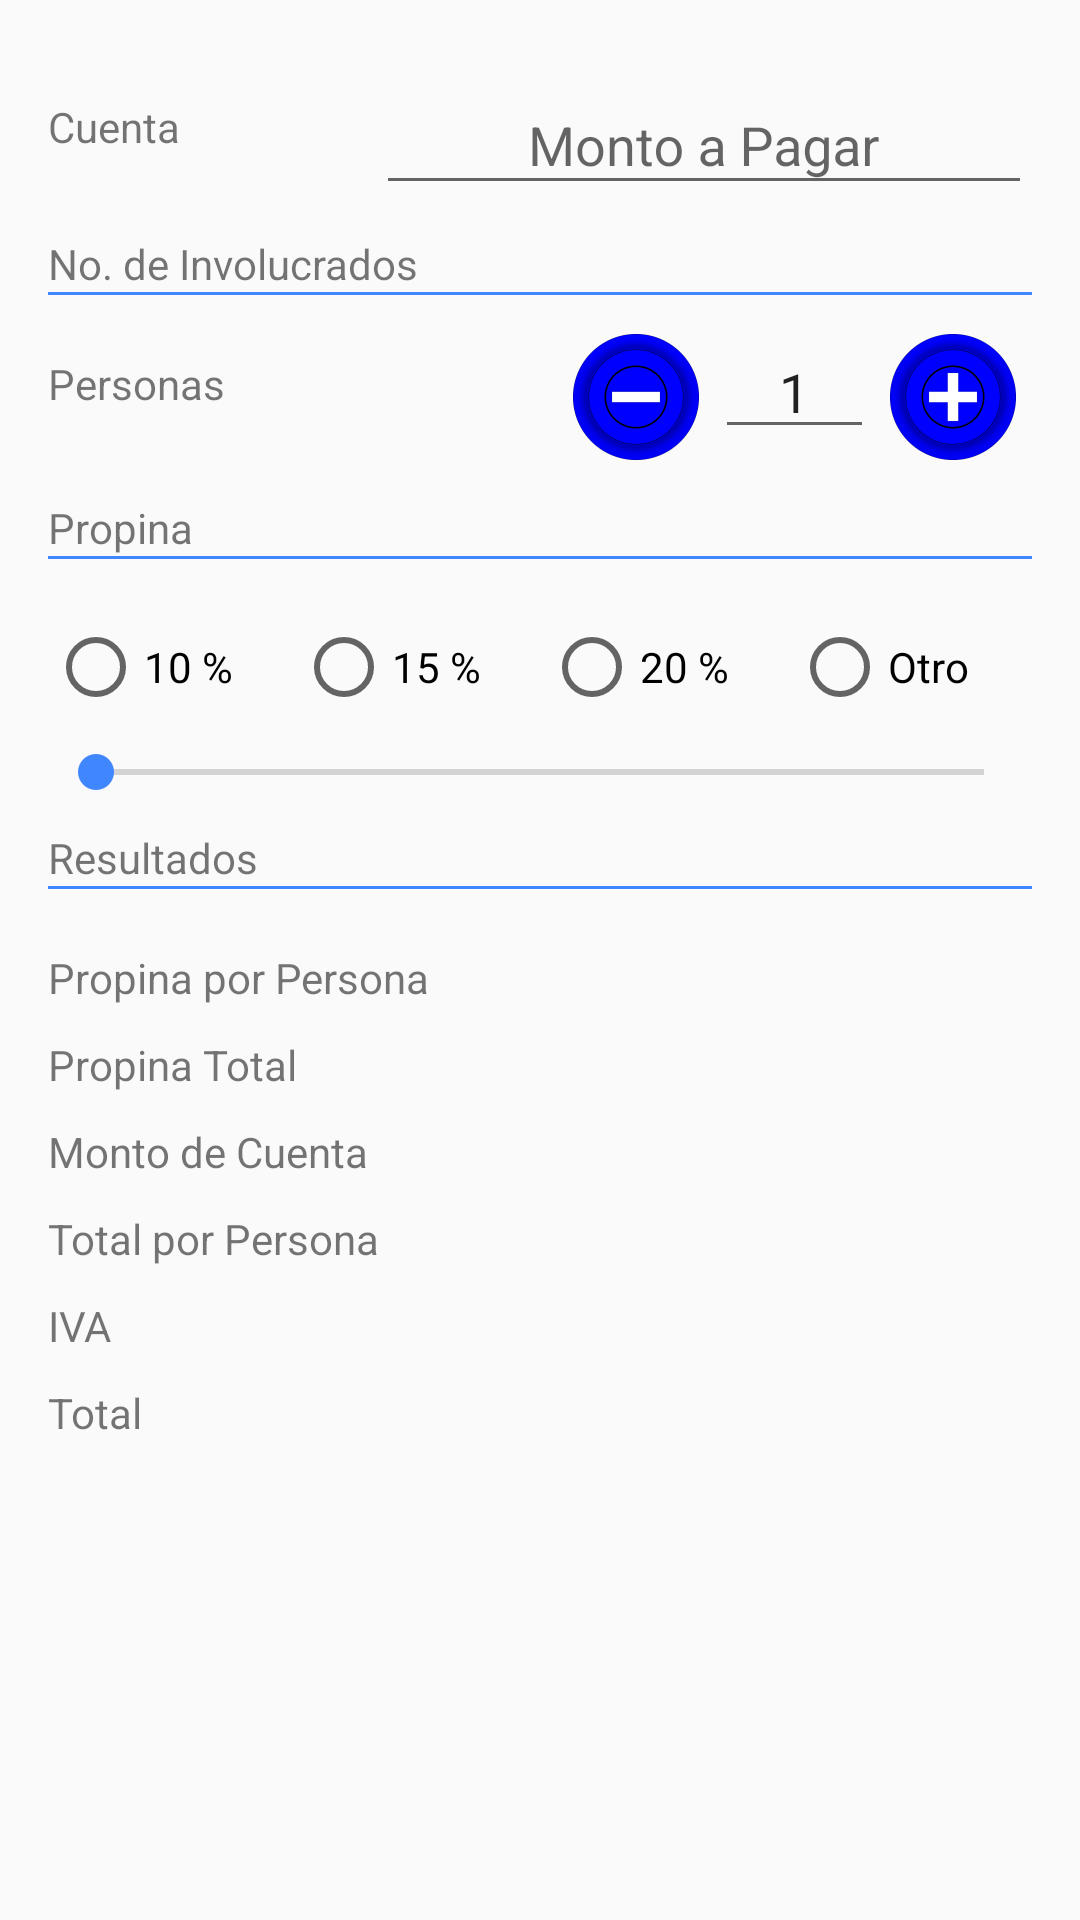

Named icons in this screenshot (1080×1920) and their bounding boxes, bbox=[x1, y1, x2, y2]:
res: bbox=[573, 334, 699, 460]
sum: bbox=[890, 334, 1016, 460]
